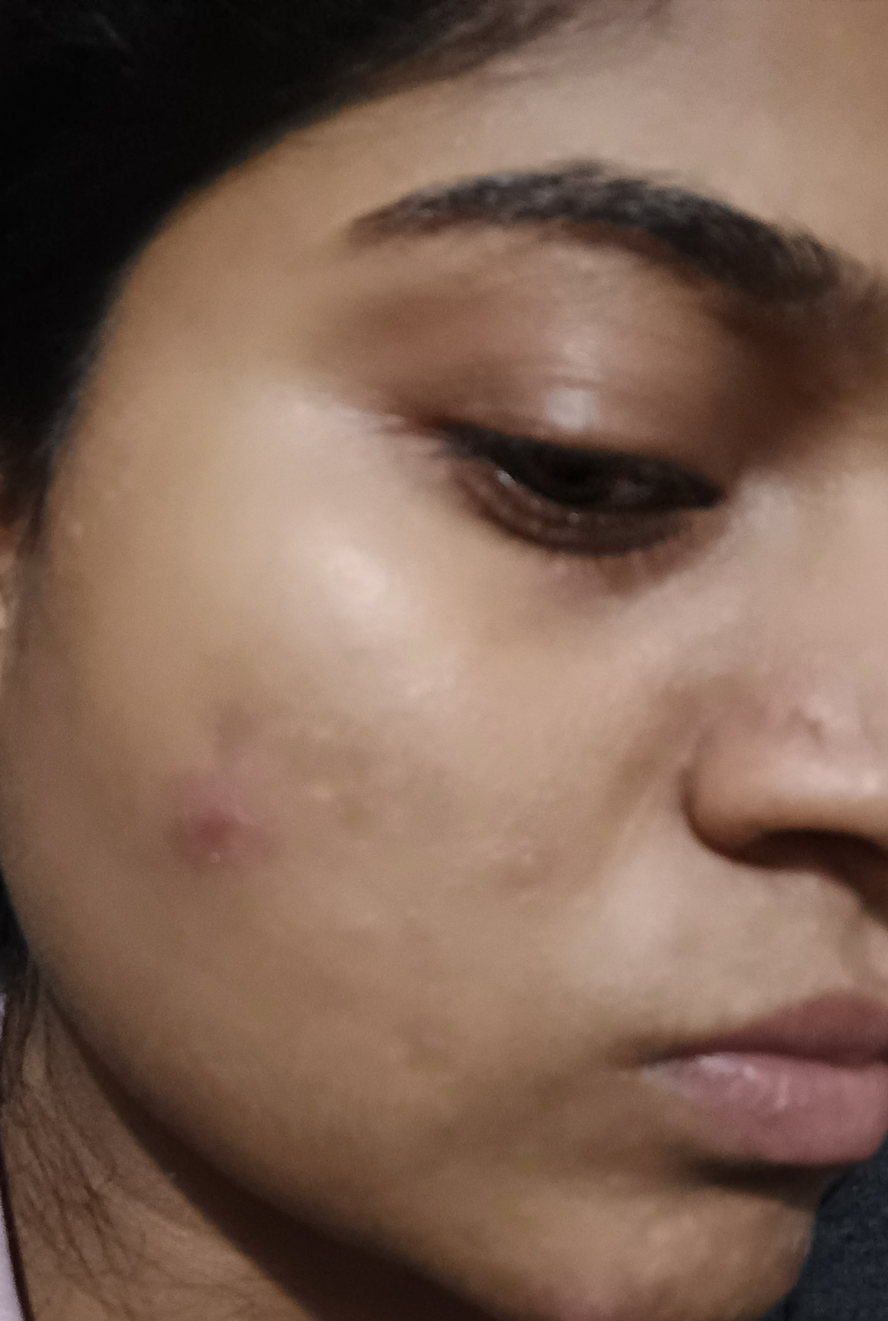nodule: (174, 789, 283, 885)
papule: (488, 826, 557, 896)
